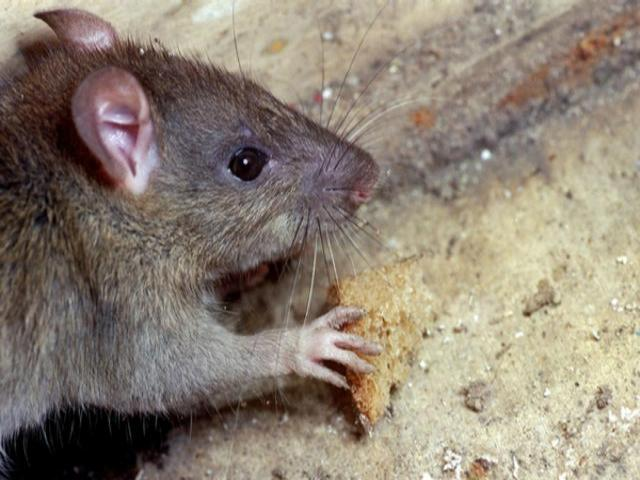Tikus: (2, 10, 378, 428)
